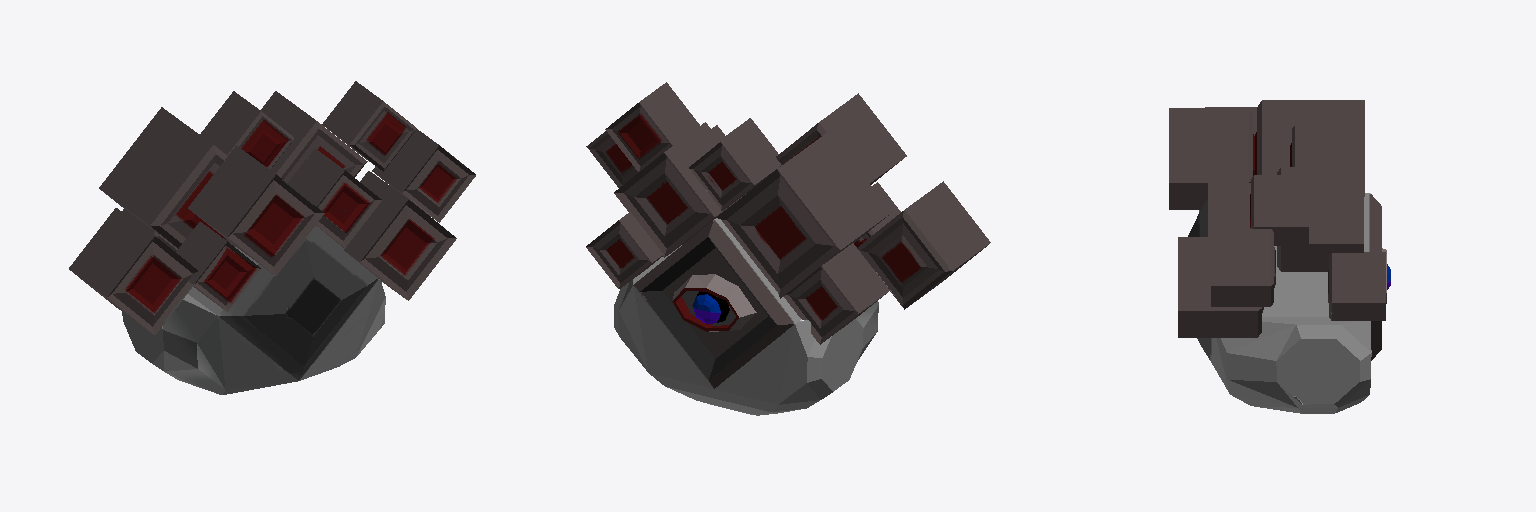
The picture shows the model from 3 angles: view 1: azimuth 30°, elevation 25°; view 2: azimuth 150°, elevation 25°; view 3: azimuth 270°, elevation 25°; orthographic projection.
Visible parts, largest first — view 1: 立方体.012_立方体.014; view 2: 立方体.012_立方体.014; view 3: 立方体.012_立方体.014.
Part boxes in pixels (x1,y1,x2,y2): 立方体.012_立方体.014: (69,81,475,394); 立方体.012_立方体.014: (586,82,990,415); 立方体.012_立方体.014: (1169,100,1390,413).
Size of the model in its own units: 7.49 by 5.26 by 3.87.
Materials: 1 (1 with a texture image).